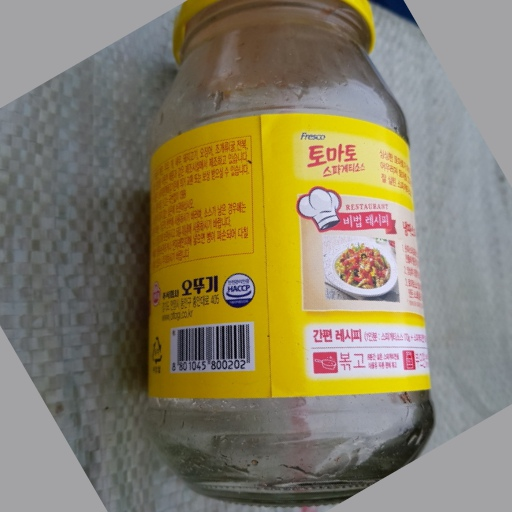Glass_5: (142, 1, 437, 501)
